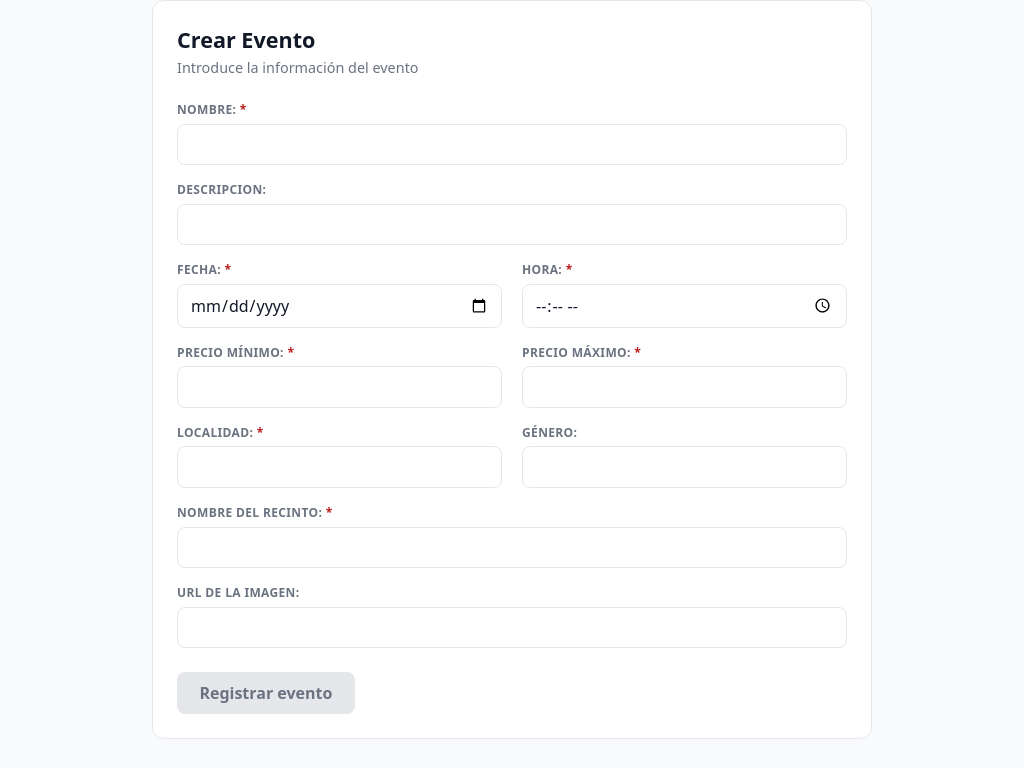
Test case: EventForm › validation › shows an error alert instead when the service rejects
Type "Jazz Night" into the field labelled "Nombre:".
click(512, 144); type("Jazz Night")  # box [177,124,847,165]
Type "2026-09-12" into the date field labelled "Fecha:".
click(340, 306); type("2026-09-12")  # box [177,284,502,328]
Type "20:30" into the time field labelled "Hora:".
click(684, 306); type("20:30")  # box [522,284,847,328]
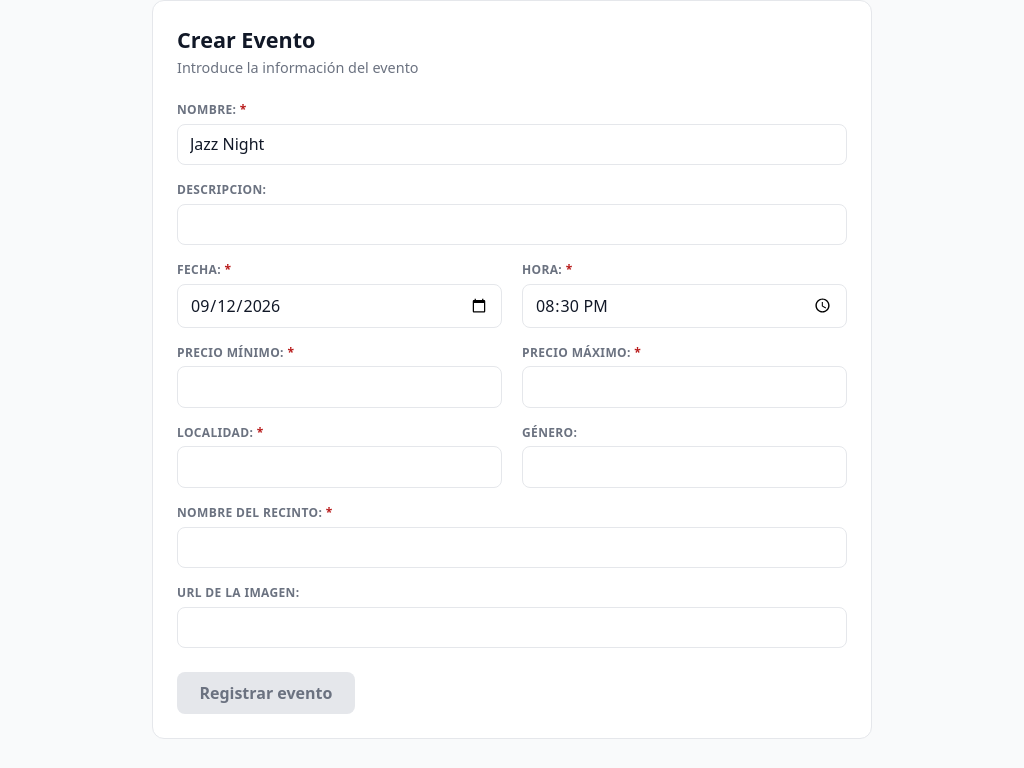
Type "15" into the number field labelled "Precio mínimo:".
click(340, 387); type("15")  # box [177,366,502,408]
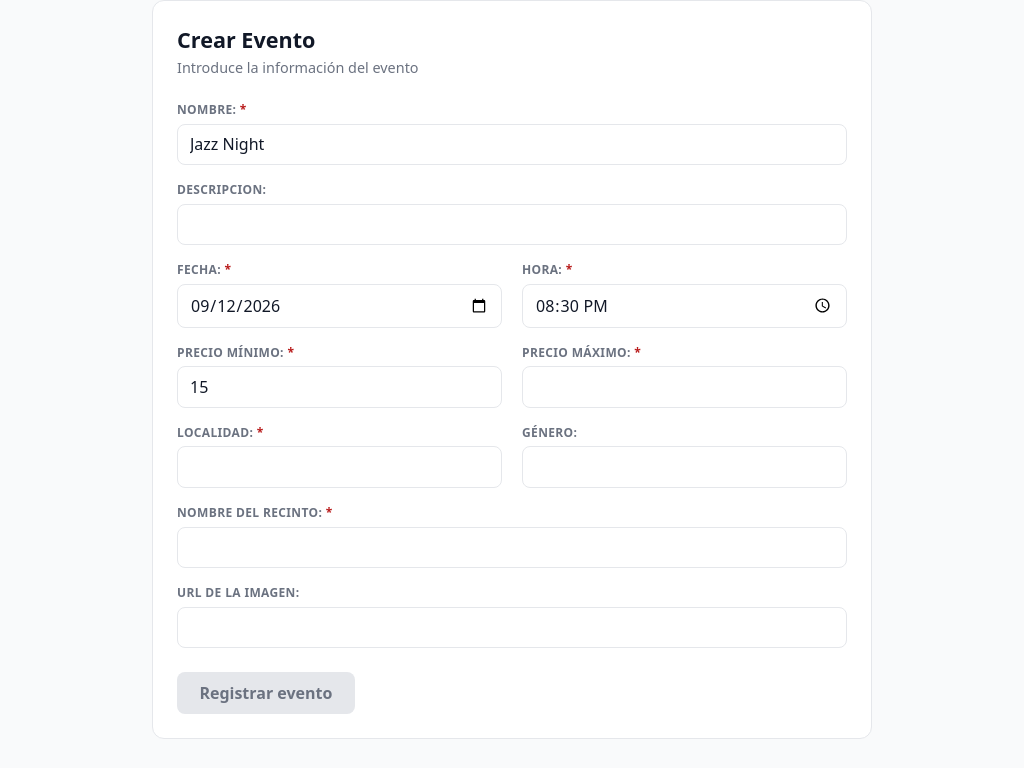
Type "45" into the number field labelled "Precio máximo:".
click(684, 387); type("45")  # box [522,366,847,408]
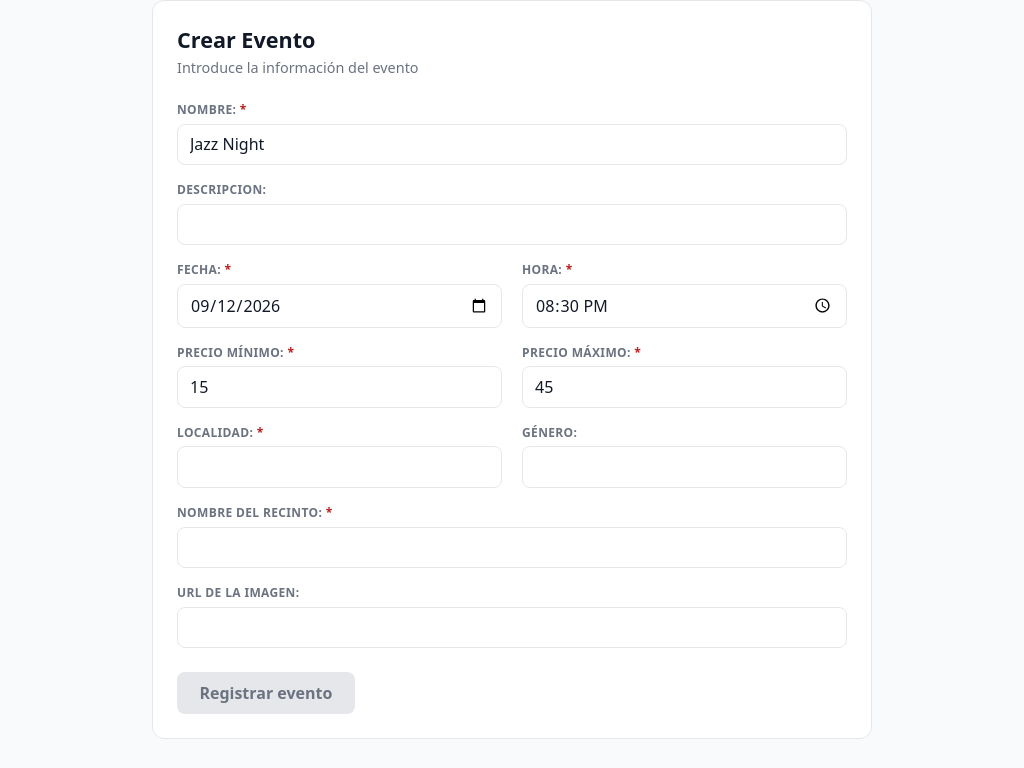
Type "Madrid" into the field labelled "Localidad:".
click(340, 467); type("Madrid")  # box [177,446,502,488]
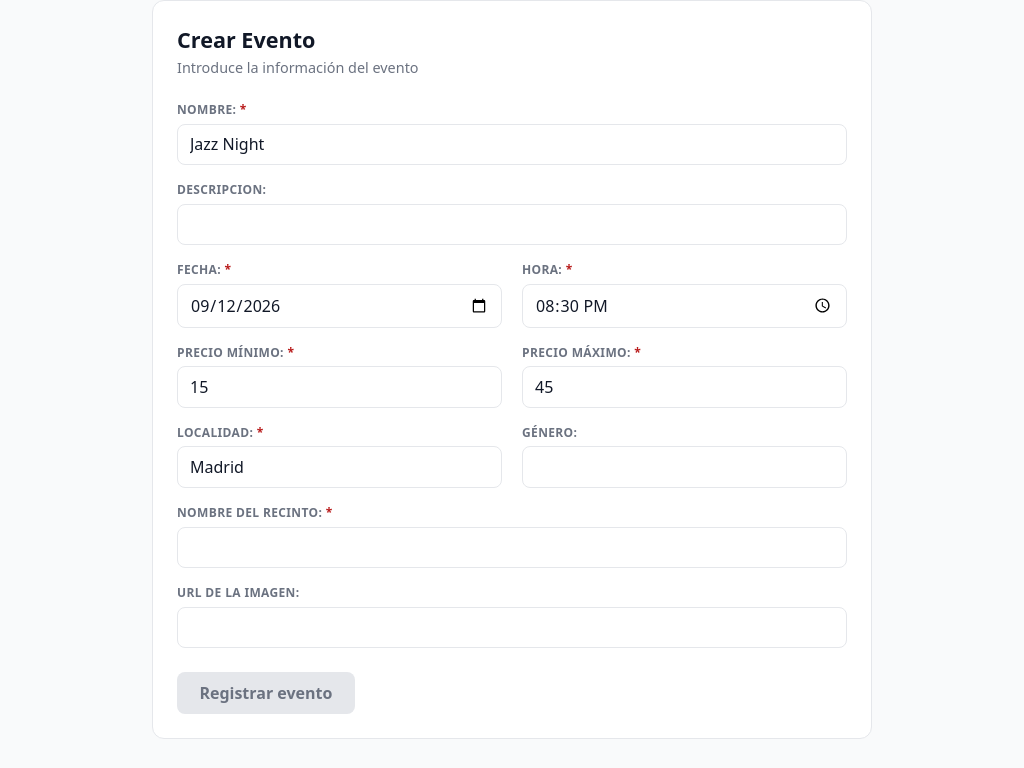
Type "Teatro Real" into the field labelled "Nombre del recinto:".
click(512, 547); type("Teatro Real")  # box [177,526,847,568]
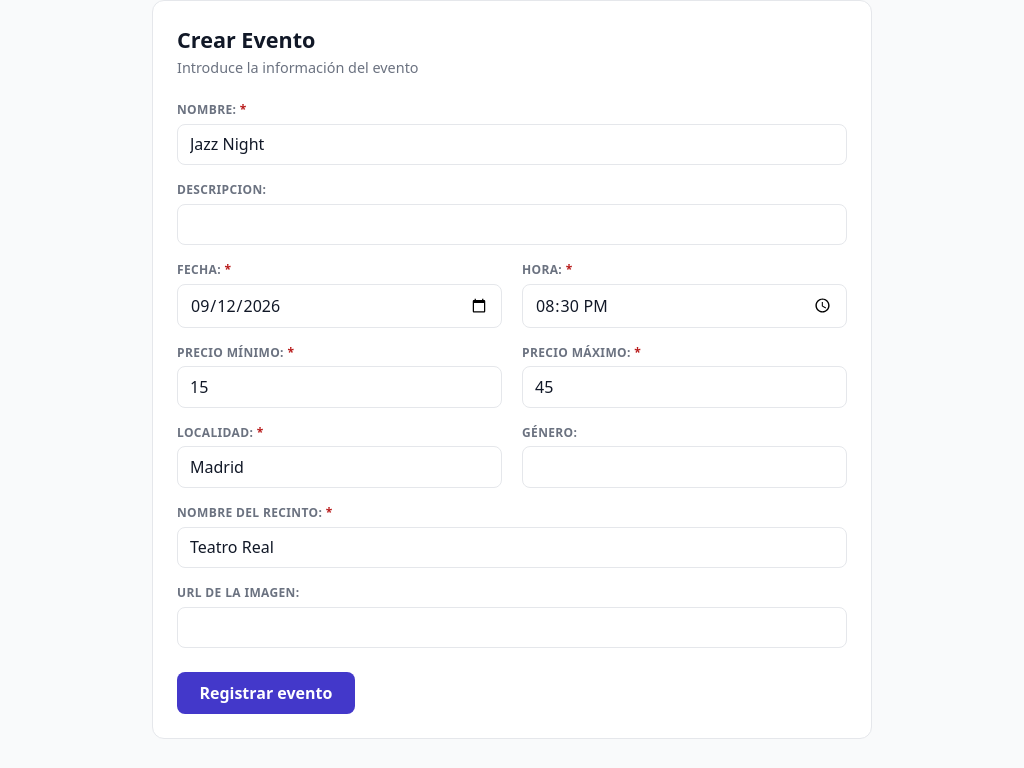
Click the button "Registrar evento".
click(266, 693)  # box [177,672,355,714]
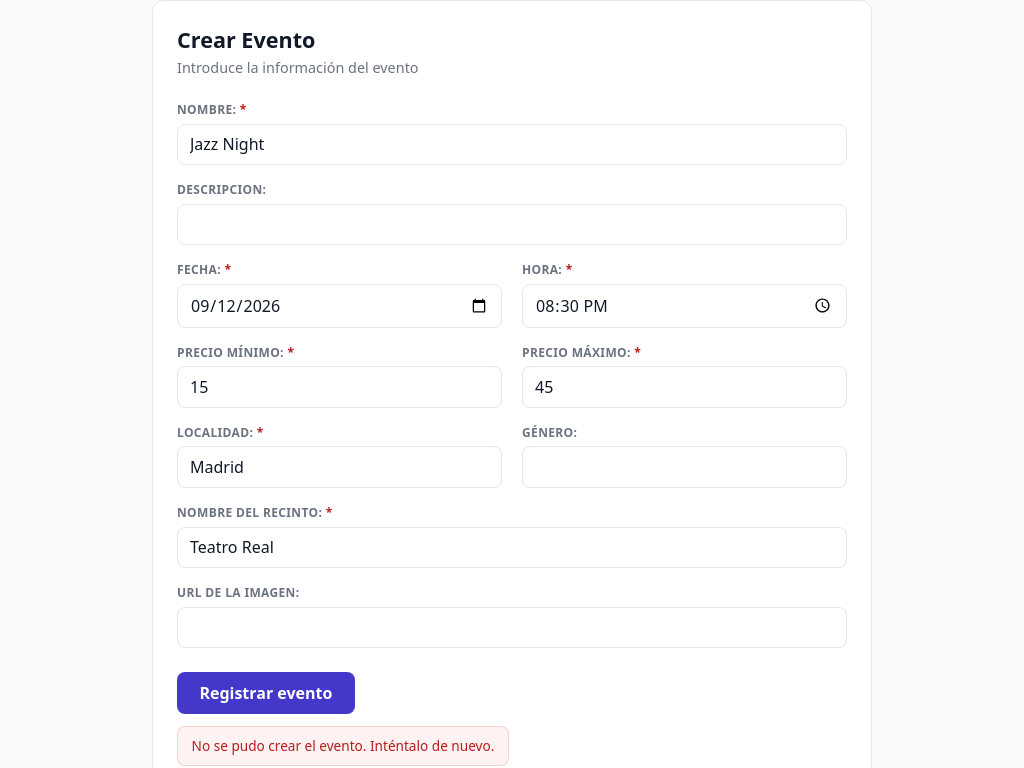
Expected: the message reads "No se pudo crear el evento. Inténtalo de nuevo.", [177,726,509,766]
